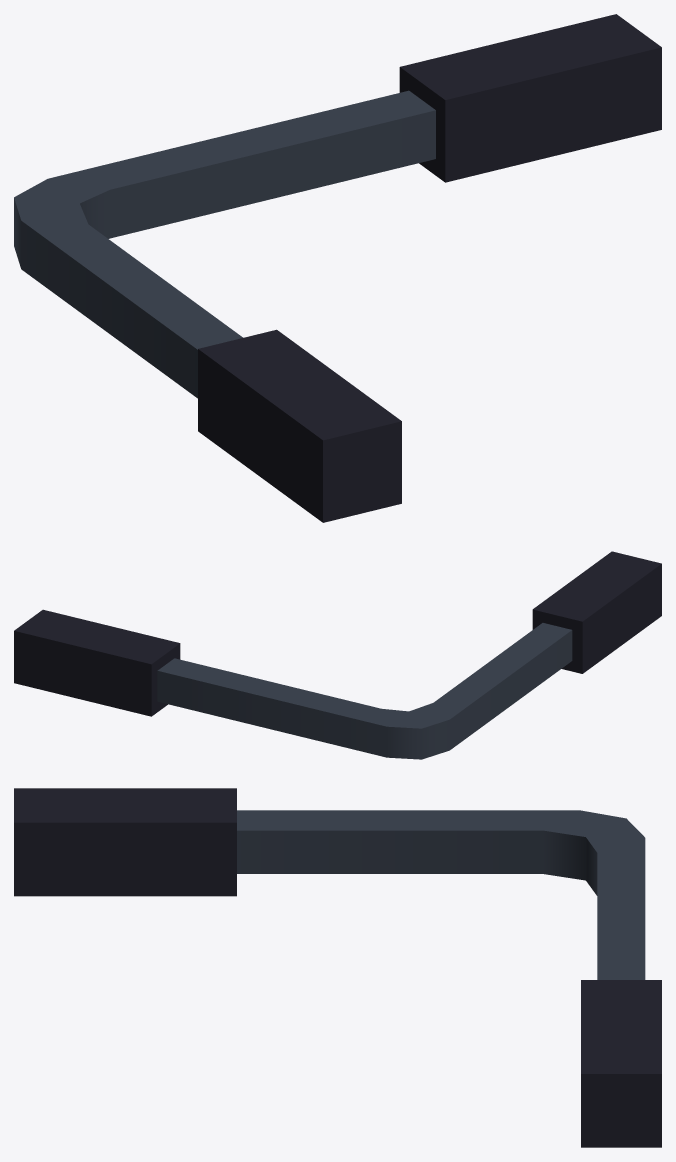
File: Cable_C_2_2.fbx
3 views of the same model, one above another, from view 1: azimuth 30°, elevation 25°; view 2: azimuth 150°, elevation 25°; view 3: azimuth 270°, elevation 25° (orthographic). The views are drawn at different scales.
Parts seen in each view (by area): view 1: Cable_C_2_2; view 2: Cable_C_2_2; view 3: Cable_C_2_2.
Boxes of the visible parts, x1,y1,x2,y2 form: Cable_C_2_2: (14, 14, 661, 522); Cable_C_2_2: (14, 551, 661, 759); Cable_C_2_2: (14, 788, 661, 1147).
Bounding box in the file's own units: 81.88 × 9.83 × 78.5.
